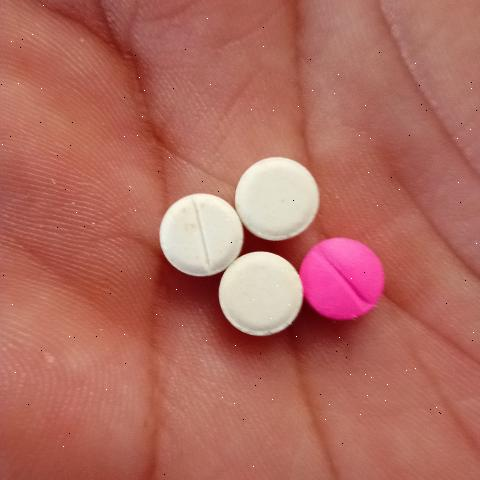Pill: (223, 126, 334, 243), (151, 175, 246, 283), (206, 247, 299, 345)
